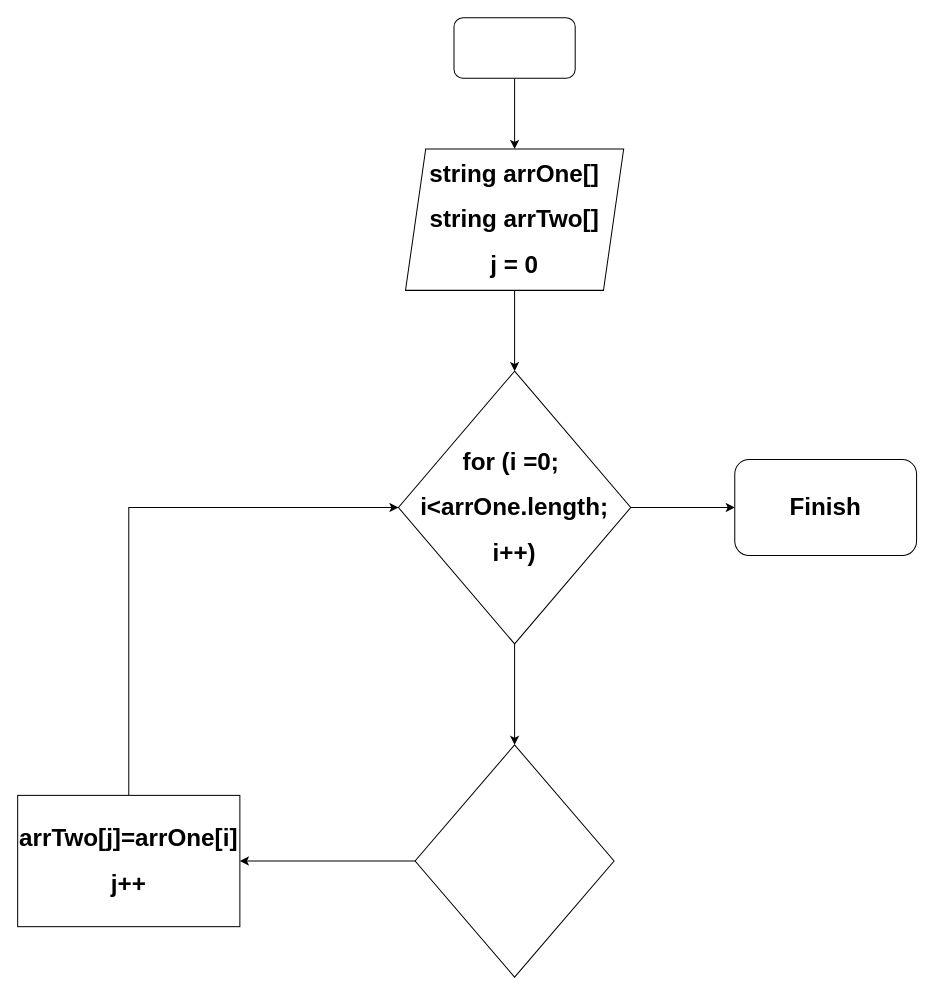
This 934x995 diagram has some shape labels left out. Here are the shapes that lost their labels. From the top down, the centre of each, then its label:
point (514, 47): Start
point (514, 860): if arrOne[i] <=3
